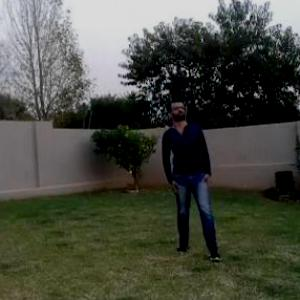follow: (160, 91, 216, 257)
